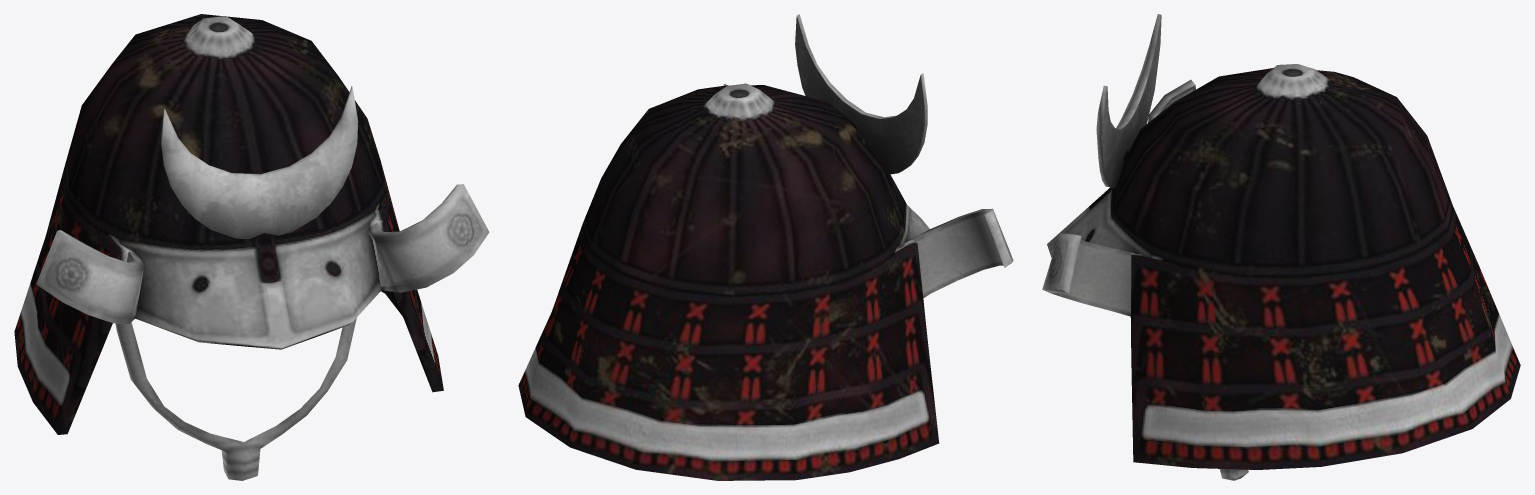
Rendered from helmet-base.glb.
3 renders of one model, left to right at view 1: azimuth 30°, elevation 25°; view 2: azimuth 150°, elevation 25°; view 3: azimuth 270°, elevation 25°, orthographic. The views are drawn at different scales.
Bounding box in the file's own units: 0.3598 × 0.348 × 0.3646.
Materials: 1 (1 with a texture image).
